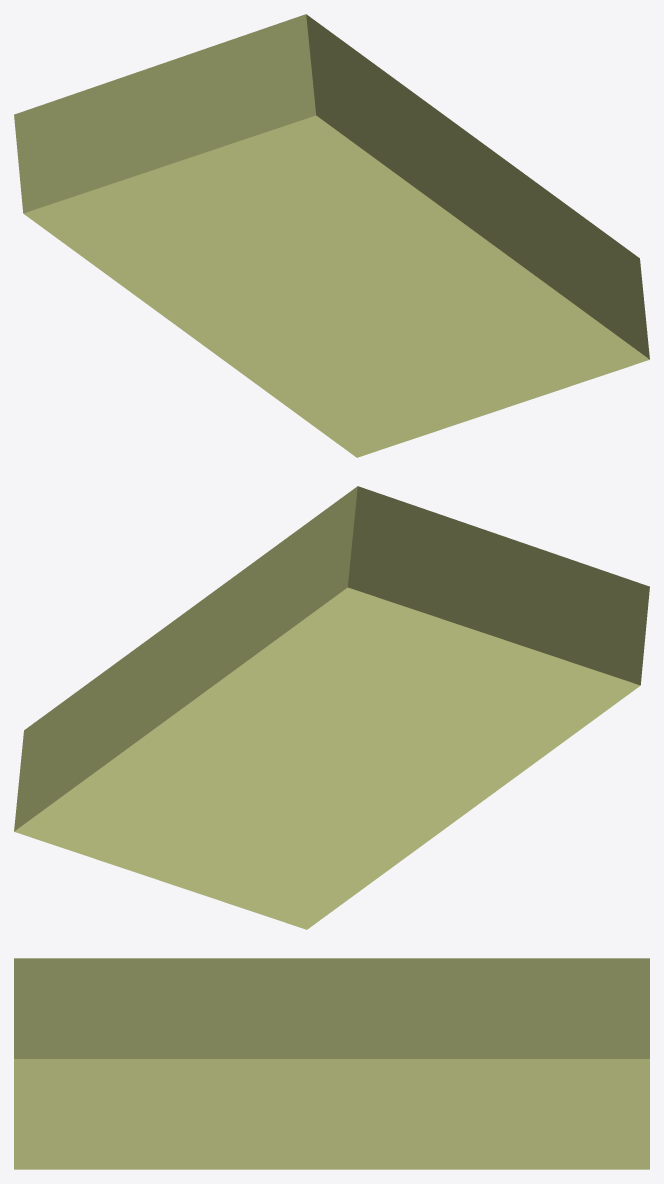
3 views of the same model, one above another, from view 1: azimuth 30°, elevation 25°; view 2: azimuth 150°, elevation 25°; view 3: azimuth 270°, elevation 25° (orthographic). The views are drawn at different scales.
Parts seen in each view (by area): view 1: 0_2_3_3_3_1_0_1_3_0_1_0; view 2: 0_2_3_3_3_1_0_1_3_0_1_0; view 3: 0_2_3_3_3_1_0_1_3_0_1_0.
Part boxes in pixels (left/top/right/bottom): 0_2_3_3_3_1_0_1_3_0_1_0: left=14, top=14, right=649, bottom=457; 0_2_3_3_3_1_0_1_3_0_1_0: left=14, top=486, right=649, bottom=929; 0_2_3_3_3_1_0_1_3_0_1_0: left=14, top=958, right=649, bottom=1169.
Bounding box in the file's own units: 4.71 × 1.94 × 9.
